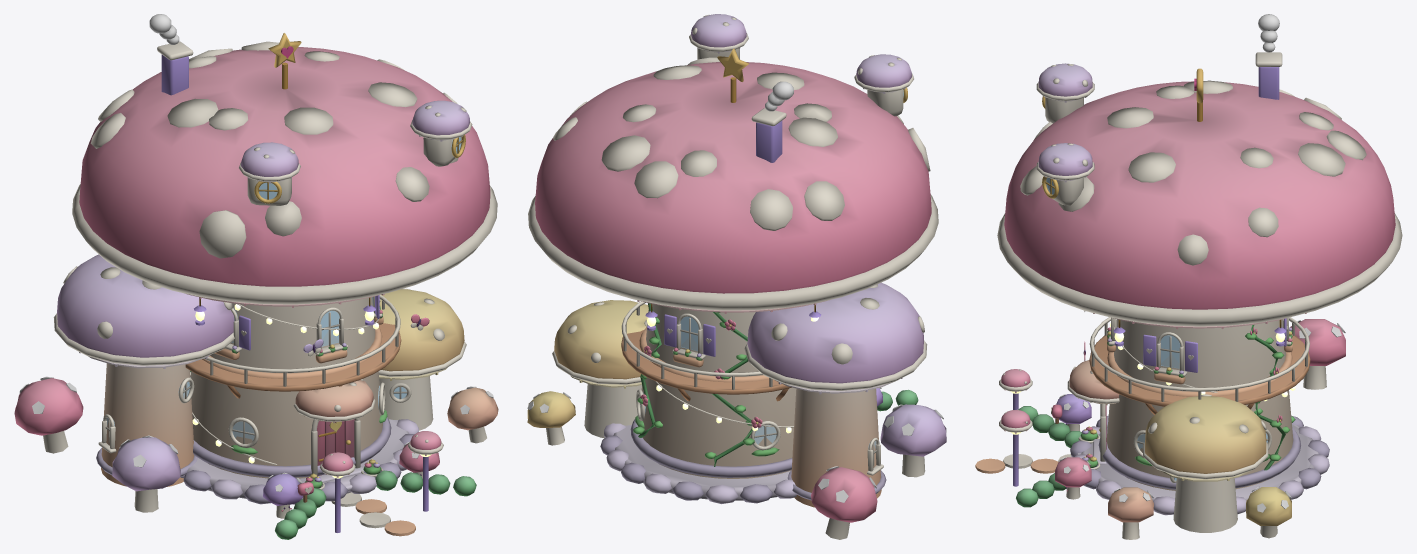
Rendered from mushroom-maze-house.glb.
3 renders of one model, left to right at view 1: azimuth 30°, elevation 25°; view 2: azimuth 150°, elevation 25°; view 3: azimuth 270°, elevation 25°, orthographic. The views are drawn at different scales.
Parts seen in each view (by area): view 1: W_MUSHROOM_MAZE_HOUSE__body; view 2: W_MUSHROOM_MAZE_HOUSE__body; view 3: W_MUSHROOM_MAZE_HOUSE__body.
Part boxes in pixels (bbox=[...]): W_MUSHROOM_MAZE_HOUSE__body: bbox=[14, 14, 498, 539]; W_MUSHROOM_MAZE_HOUSE__body: bbox=[527, 14, 946, 539]; W_MUSHROOM_MAZE_HOUSE__body: bbox=[975, 14, 1402, 539].
Bounding box in the file's own units: 1.88 × 2 × 1.88.
